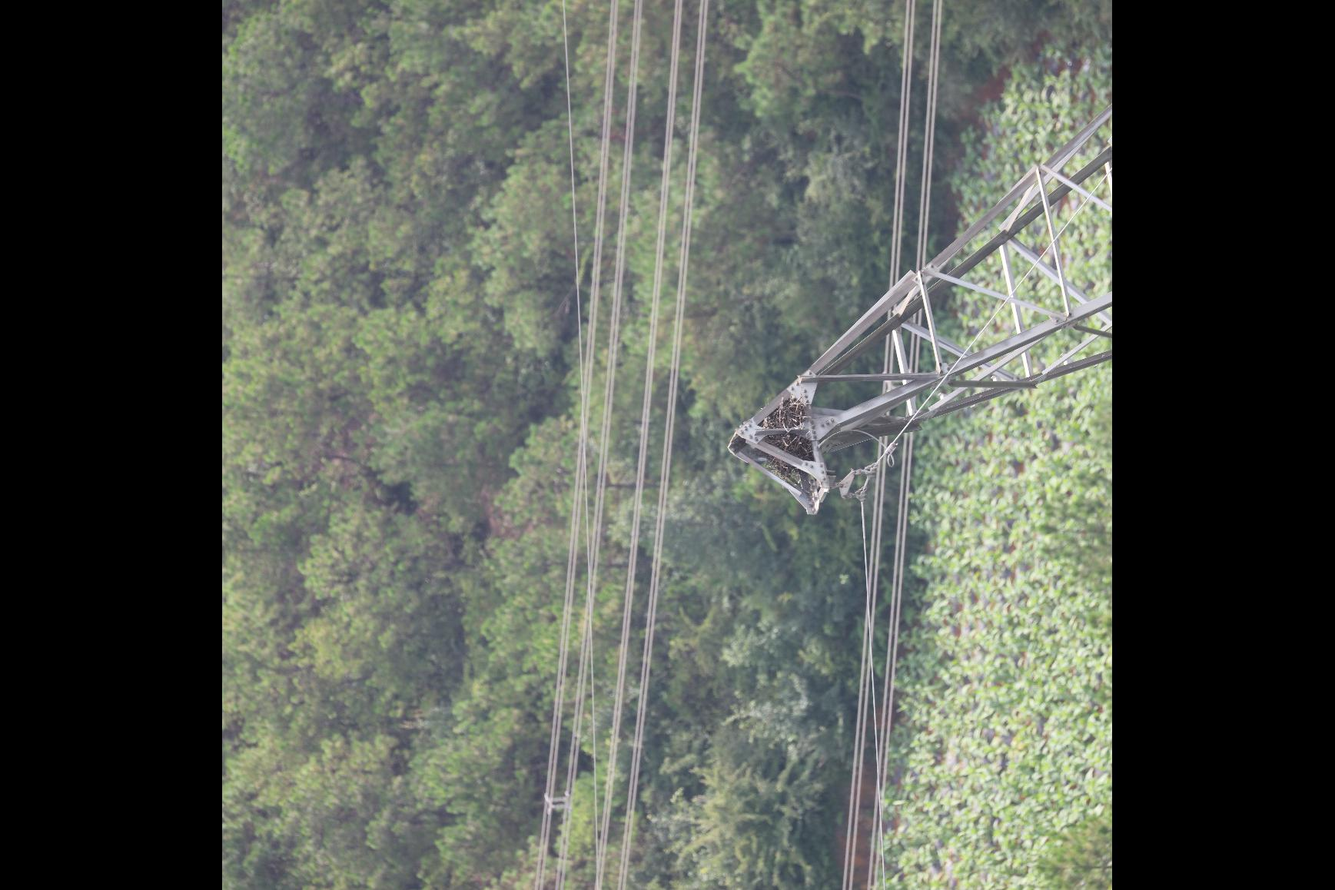nest: (760, 398, 813, 480)
